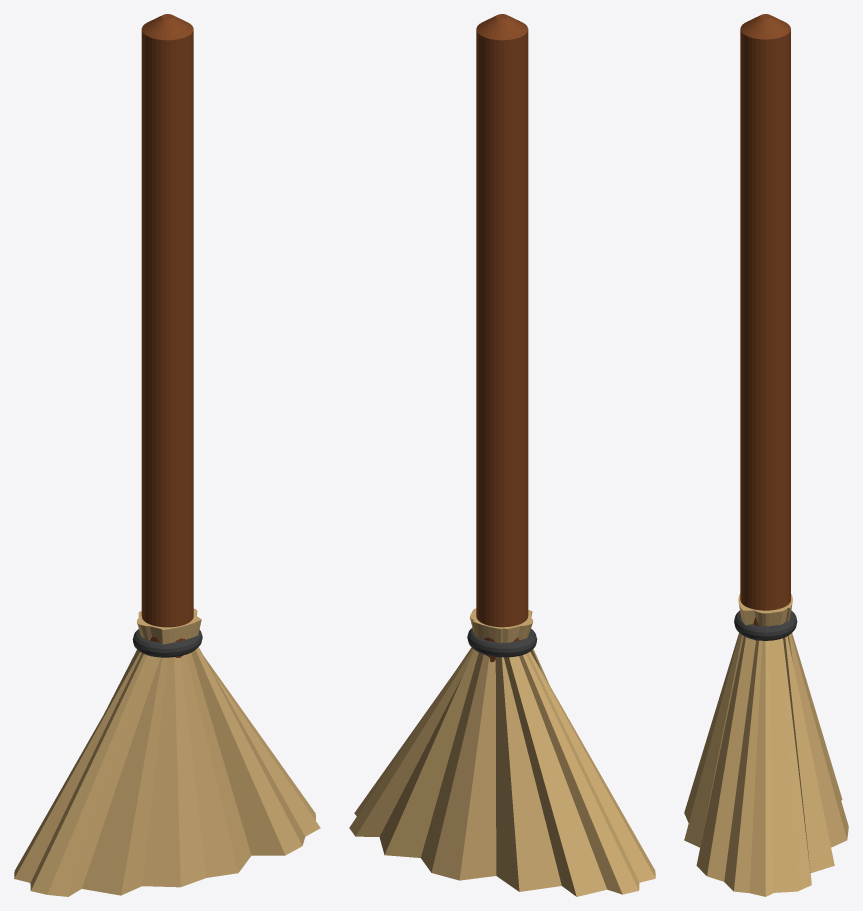
File: Broom.fbx
3 views of the same model, side by side, from view 1: azimuth 30°, elevation 25°; view 2: azimuth 150°, elevation 25°; view 3: azimuth 270°, elevation 25° (orthographic). The views are drawn at different scales.
Parts seen in each view (by area): view 1: Broom; view 2: Broom; view 3: Broom.
Boxes of the visible parts, bbox=[...] form: Broom: bbox=[14, 14, 320, 896]; Broom: bbox=[349, 14, 655, 896]; Broom: bbox=[684, 14, 848, 896].
Bounding box in the file's own units: 130 × 354 × 65.17.
